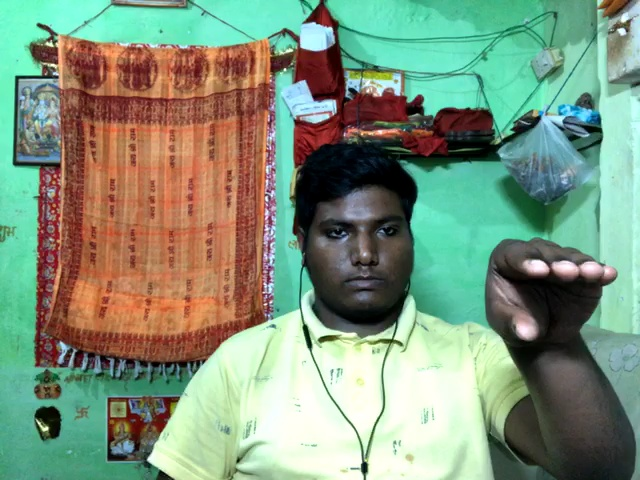No: (474, 228, 634, 377)
